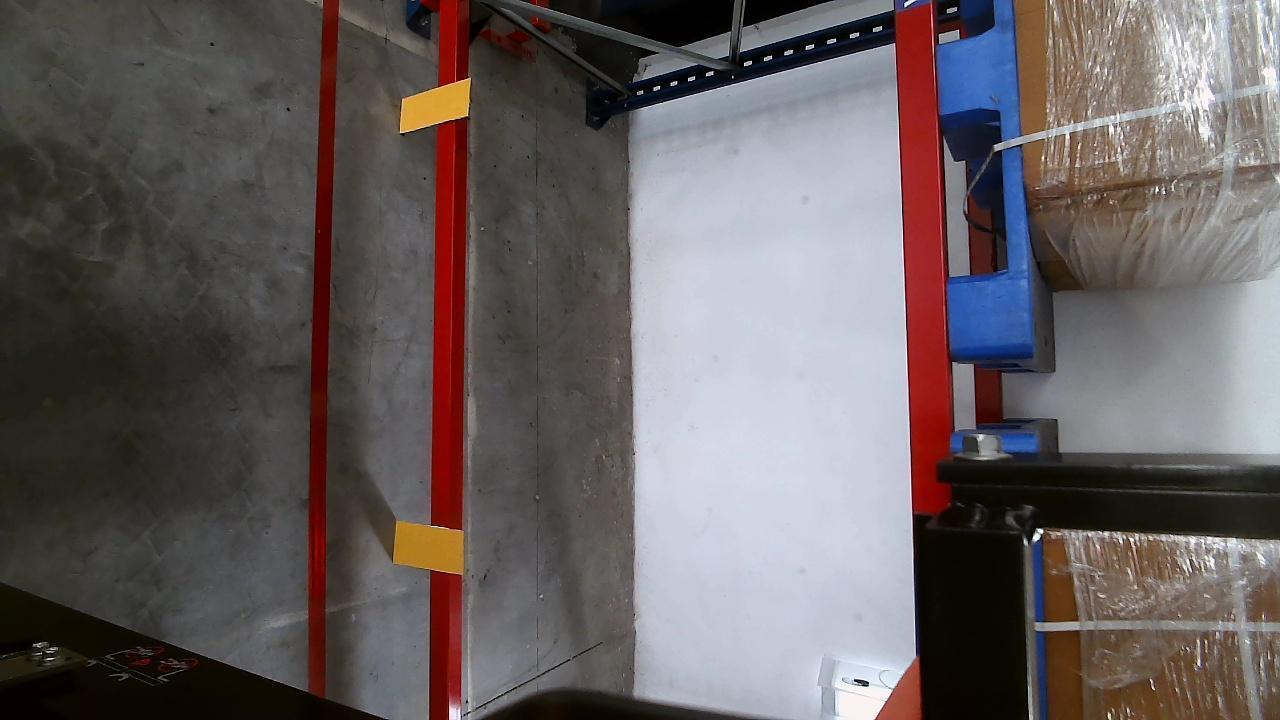red_line: (306, 0, 341, 694)
